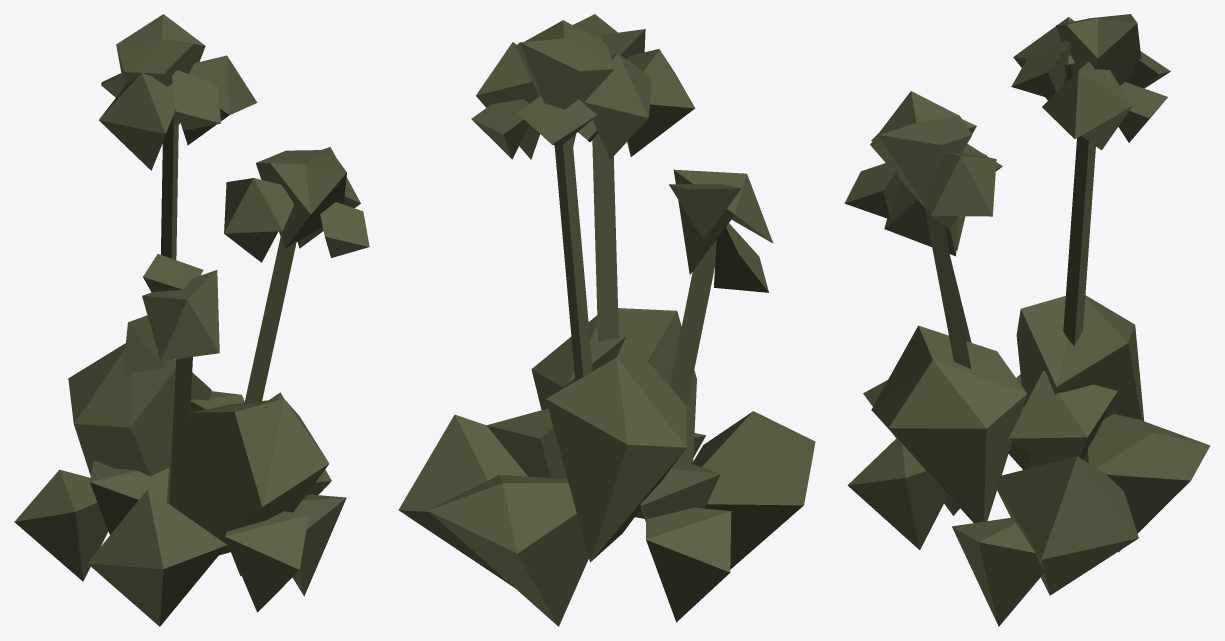
File: kingdom_SM_Env_Flowers_24.gltf
3 views of the same model, side by side, from view 1: azimuth 30°, elevation 25°; view 2: azimuth 150°, elevation 25°; view 3: azimuth 270°, elevation 25° (orthographic). The views are drawn at different scales.
Visible parts, largest first — view 1: SM_Env_Flowers_24; view 2: SM_Env_Flowers_24; view 3: SM_Env_Flowers_24.
Boxes of the visible parts, bbox=[...] form: SM_Env_Flowers_24: bbox=[14, 14, 369, 626]; SM_Env_Flowers_24: bbox=[398, 14, 815, 626]; SM_Env_Flowers_24: bbox=[844, 14, 1210, 626].
Bounding box in the file's own units: 0.5111 × 0.9242 × 0.5408.
Materials: 1 (1 with a texture image).
